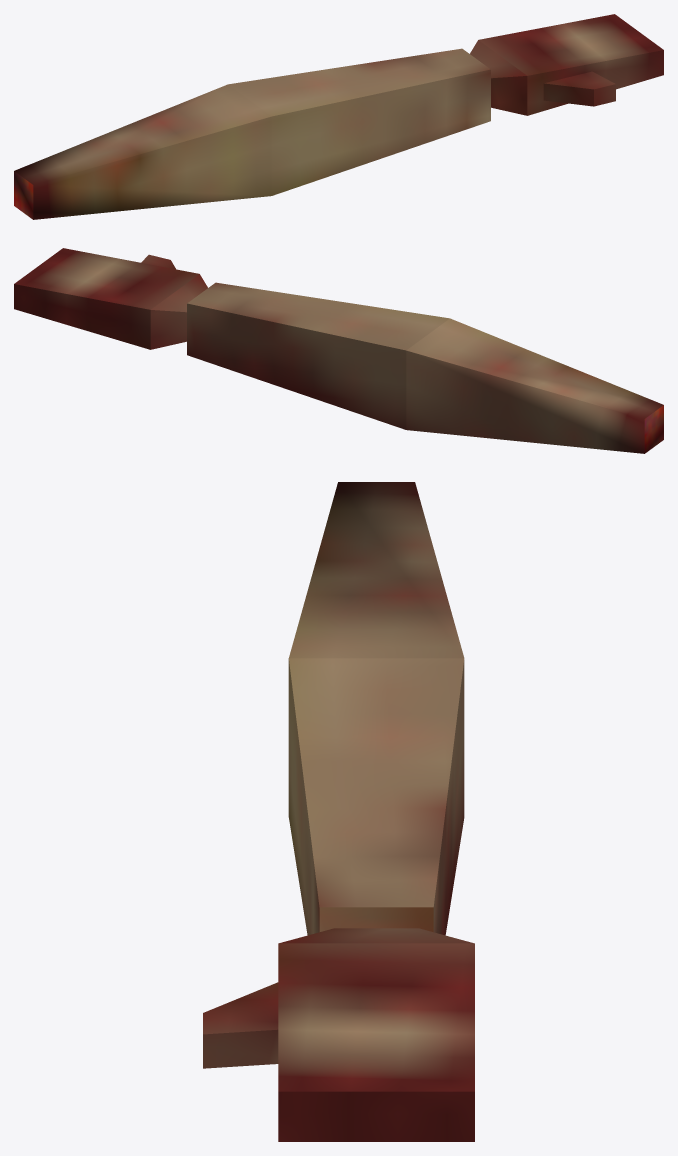
The model's file is GoreHand.fbx.
The picture shows the model from 3 angles, top to bottom: view 1: azimuth 30°, elevation 25°; view 2: azimuth 150°, elevation 25°; view 3: azimuth 270°, elevation 25°; orthographic projection. The views are drawn at different scales.
Parts seen in each view (by area): view 1: GoreHand; view 2: GoreHand; view 3: GoreHand.
Boxes of the visible parts, bbox=[...] form: GoreHand: bbox=[14, 14, 663, 219]; GoreHand: bbox=[14, 248, 663, 453]; GoreHand: bbox=[203, 482, 474, 1141].
Size of the model in its own units: 40.93 by 5.05 by 7.82.
